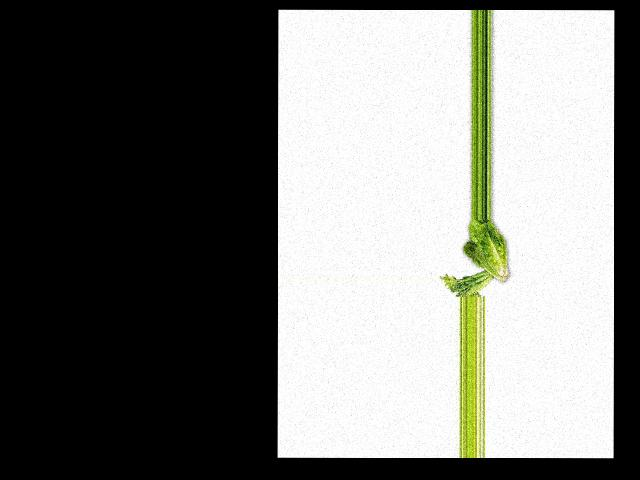lettuce: (457, 218, 507, 285)
